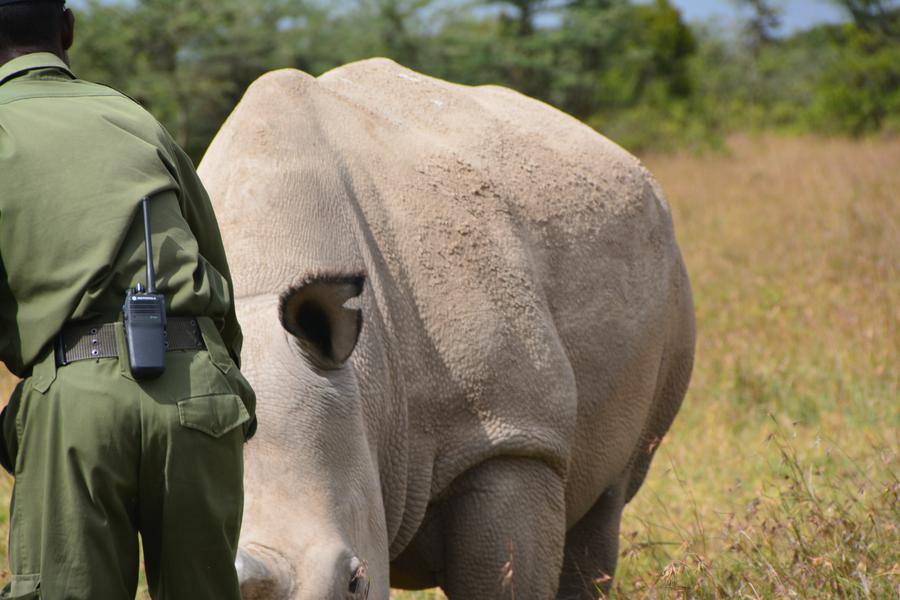rhino: (168, 45, 709, 582)
